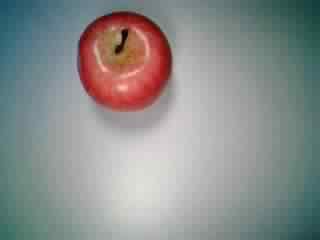apple: (70, 8, 176, 112)
